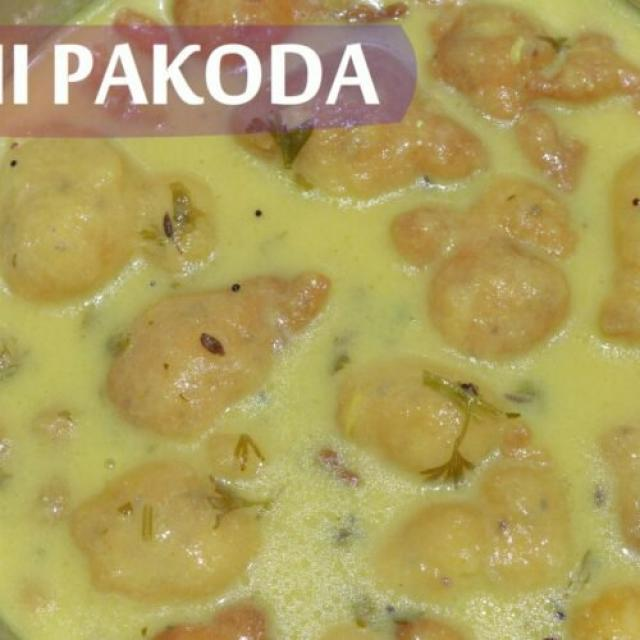Kadhi Pakora: (0, 3, 640, 640)
